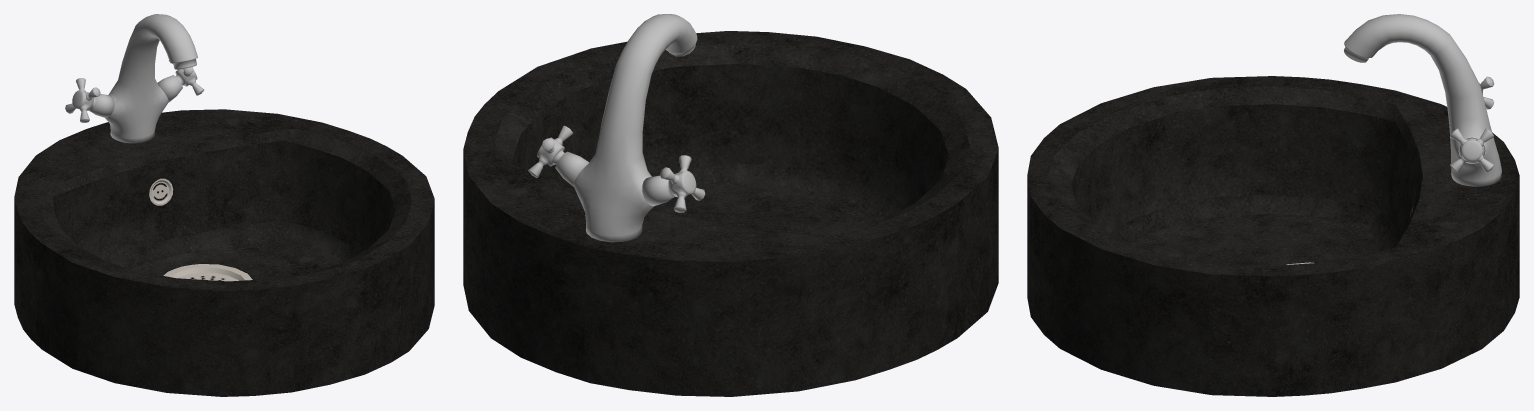
The model's file is obj_kitchen_sink_5a7229.glb.
3 views of the same model, side by side, from view 1: azimuth 30°, elevation 25°; view 2: azimuth 150°, elevation 25°; view 3: azimuth 270°, elevation 25° (orthographic). The views are drawn at different scales.
Parts seen in each view (by area): view 1: obj_kitchen_sink_5a7229; view 2: obj_kitchen_sink_5a7229; view 3: obj_kitchen_sink_5a7229.
Boxes of the visible parts, x1,y1,x2,y2 form: obj_kitchen_sink_5a7229: (14, 14, 434, 396); obj_kitchen_sink_5a7229: (463, 14, 998, 396); obj_kitchen_sink_5a7229: (1027, 14, 1519, 396).
Size of the model in its own units: 0.5772 by 0.3774 by 0.6.
5 materials, 5 textured.
